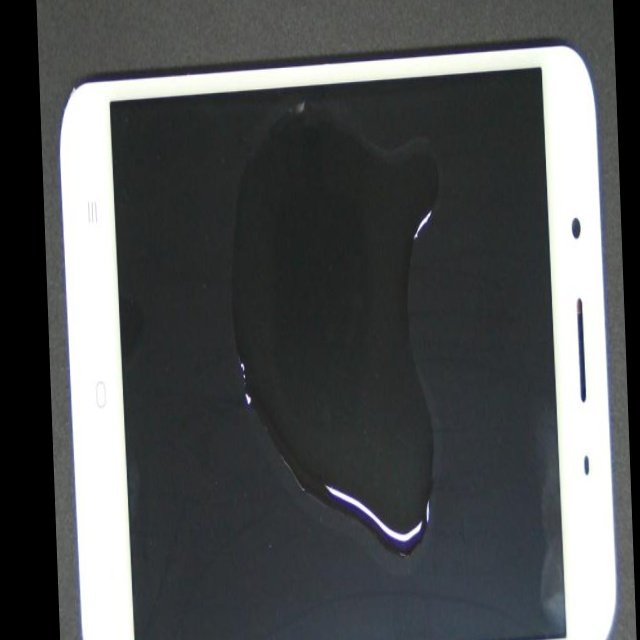oil: (125, 70, 335, 515)
